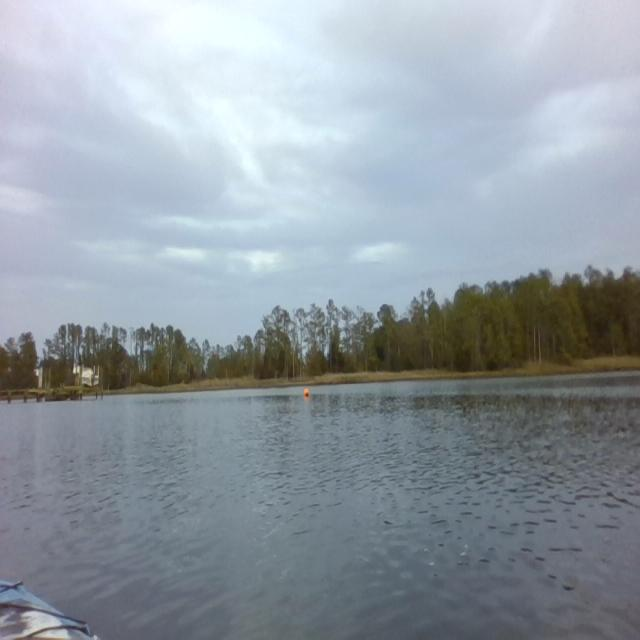Buoy: (302, 386, 311, 399)
